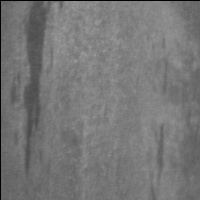inclusion: (9, 2, 54, 181), (143, 118, 171, 200), (152, 55, 174, 93)
